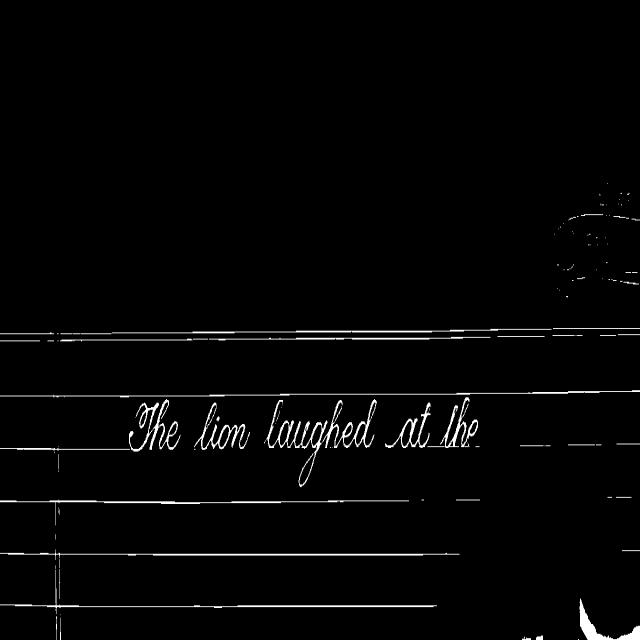hand: (579, 599, 614, 639), (618, 626, 640, 639), (534, 636, 543, 639), (522, 637, 532, 639)
noise: (0, 327, 640, 343), (0, 388, 640, 398), (0, 601, 436, 612), (0, 548, 460, 556), (0, 498, 410, 504), (50, 497, 62, 639), (0, 446, 136, 456), (518, 442, 640, 446), (52, 448, 60, 479), (452, 495, 480, 502), (605, 492, 632, 499), (620, 547, 640, 556)
not-noise: (264, 399, 378, 487), (128, 399, 180, 452), (194, 403, 249, 449), (384, 403, 430, 448), (440, 396, 478, 446)
page-marker: (554, 193, 640, 299)
